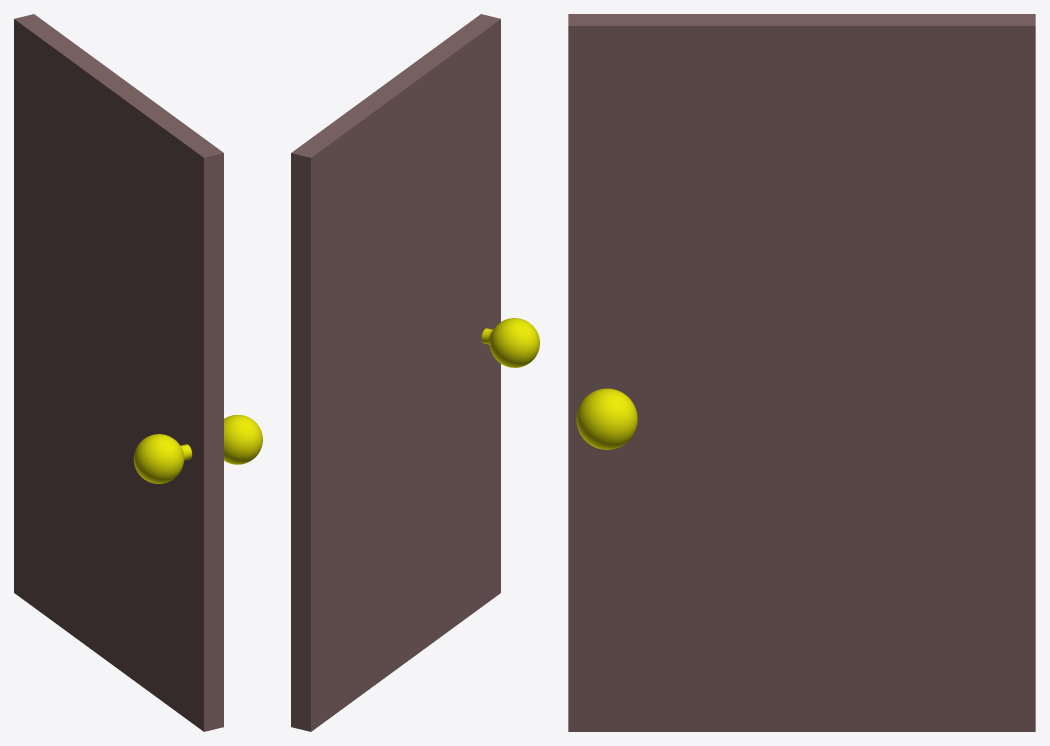
File: door.fbx
3 renders of one model, left to right at view 1: azimuth 30°, elevation 25°; view 2: azimuth 150°, elevation 25°; view 3: azimuth 270°, elevation 25°, orthographic. The views are drawn at different scales.
Parts seen in each view (by area): view 1: door; view 2: door; view 3: door.
Part boxes in pixels (x1=…): door: x1=14, y1=14, x2=262, y2=731; door: x1=291, y1=14, x2=539, y2=731; door: x1=568, y1=14, x2=1035, y2=731.
Size of the model in its own units: 0.00559 by 0.025 by 0.015.
